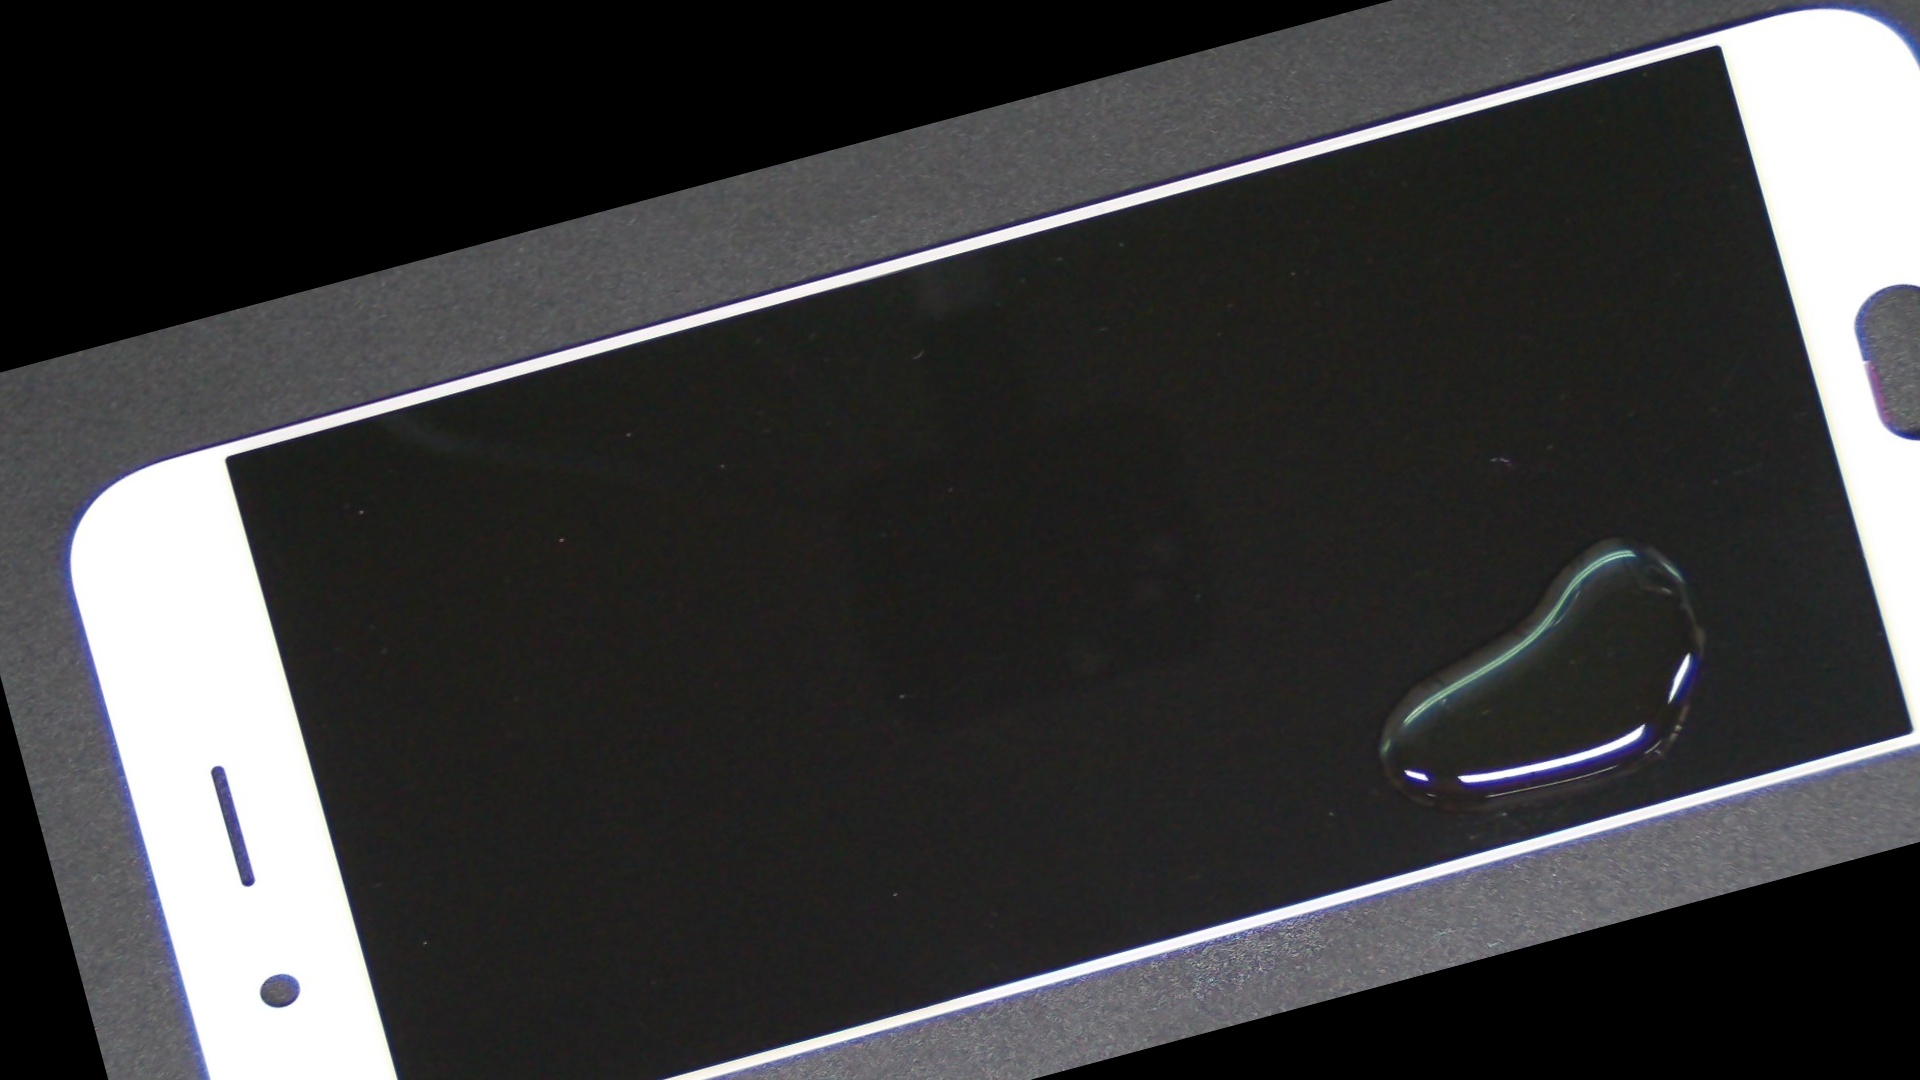oil: (766, 136, 1920, 1021)
